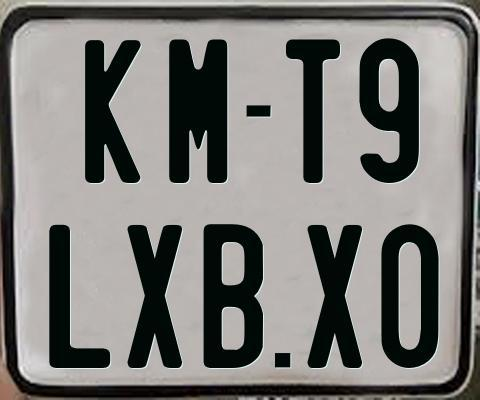0: (379, 223, 441, 369)
9: (359, 37, 424, 188)
B: (203, 224, 265, 368)
K: (83, 38, 145, 181)
L: (48, 223, 114, 367)
M: (169, 36, 231, 180)
T: (286, 39, 346, 185)
X: (304, 223, 361, 371), (124, 222, 180, 369)
